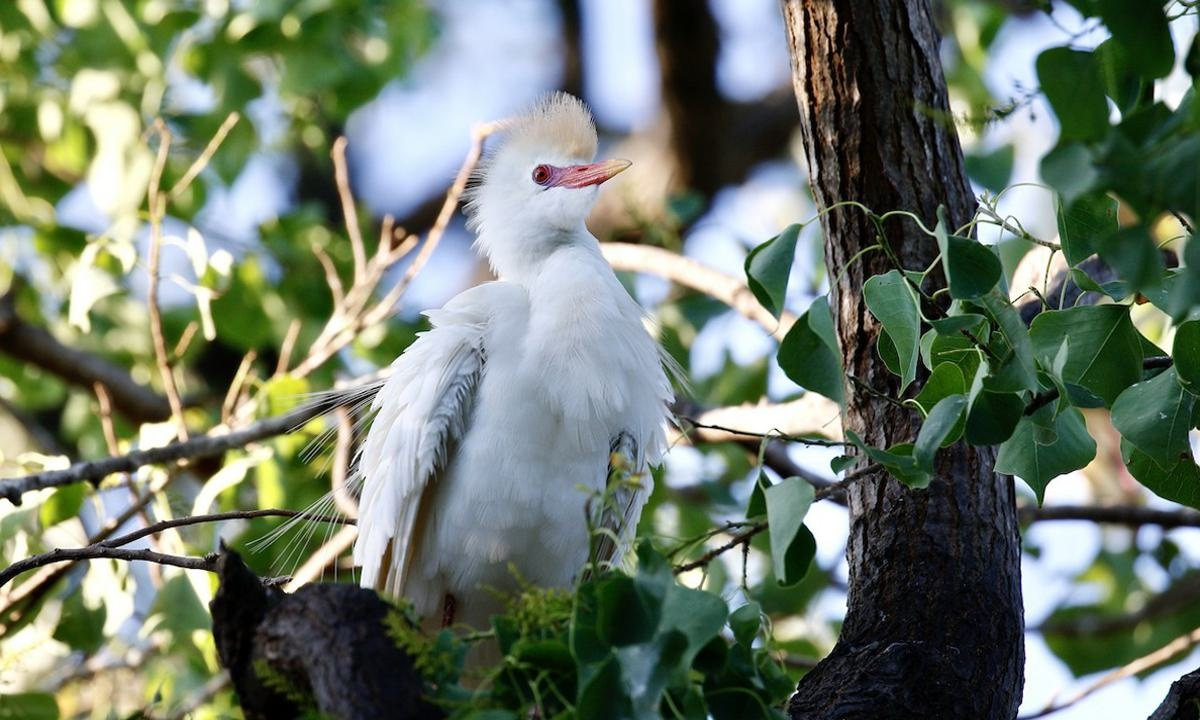egret: (337, 89, 708, 635)
